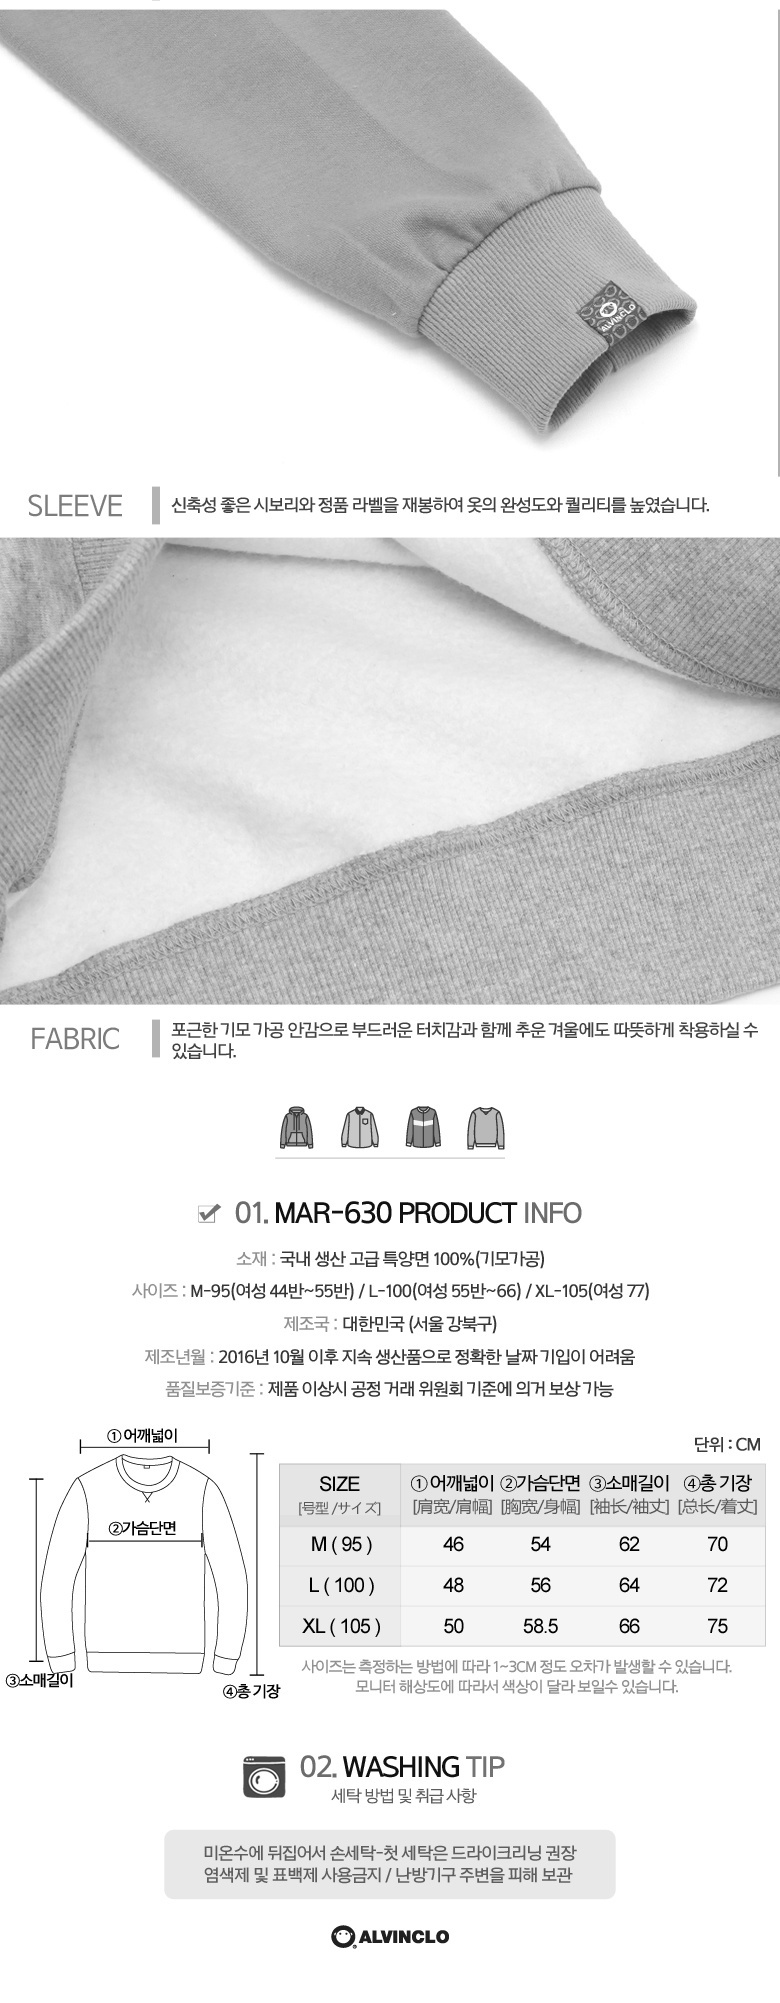table: (280, 1461, 770, 1648)
